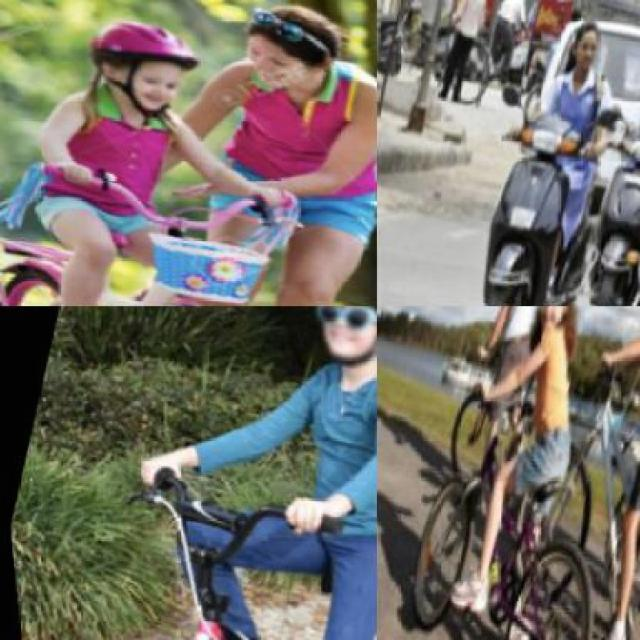With Helmet: (65, 5, 210, 134), (290, 306, 376, 397), (511, 306, 592, 349)
Without Helmet: (554, 6, 614, 82)
